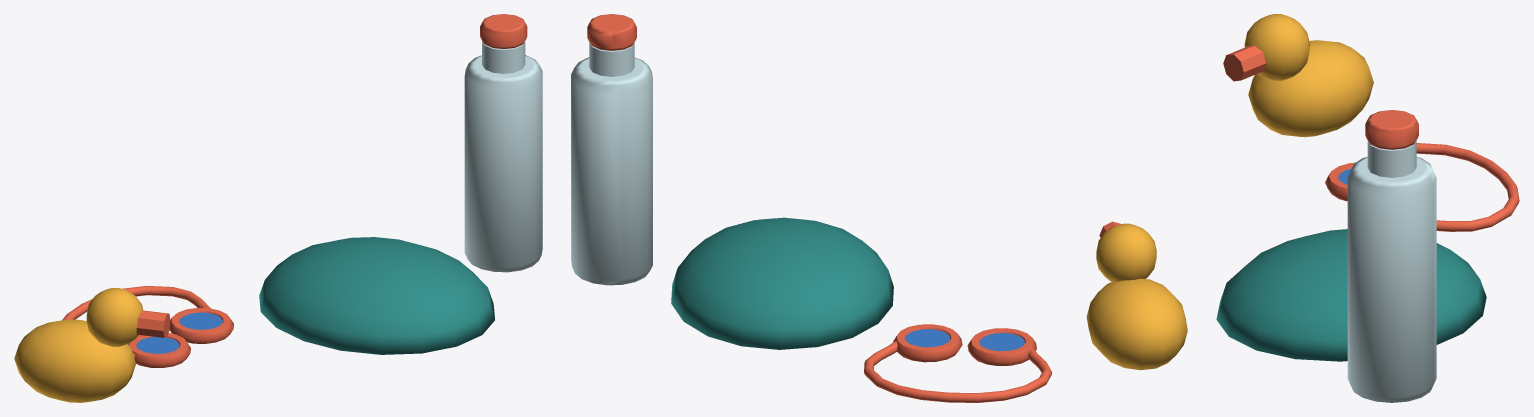
File: sill_bits.glb
The picture shows the model from 3 angles, left to right: view 1: azimuth 30°, elevation 25°; view 2: azimuth 150°, elevation 25°; view 3: azimuth 270°, elevation 25°; orthographic projection. The views are drawn at different scales.
Visible parts, largest first — view 1: SillBitsBody; view 2: SillBitsBody; view 3: SillBitsBody.
Part boxes in pixels (x1=…): SillBitsBody: x1=14, y1=14, x2=542, y2=402; SillBitsBody: x1=571, y1=14, x2=1187, y2=402; SillBitsBody: x1=1216, y1=14, x2=1519, y2=402.
Bounding box in the file's own units: 0.5292 × 0.22 × 0.2245.
